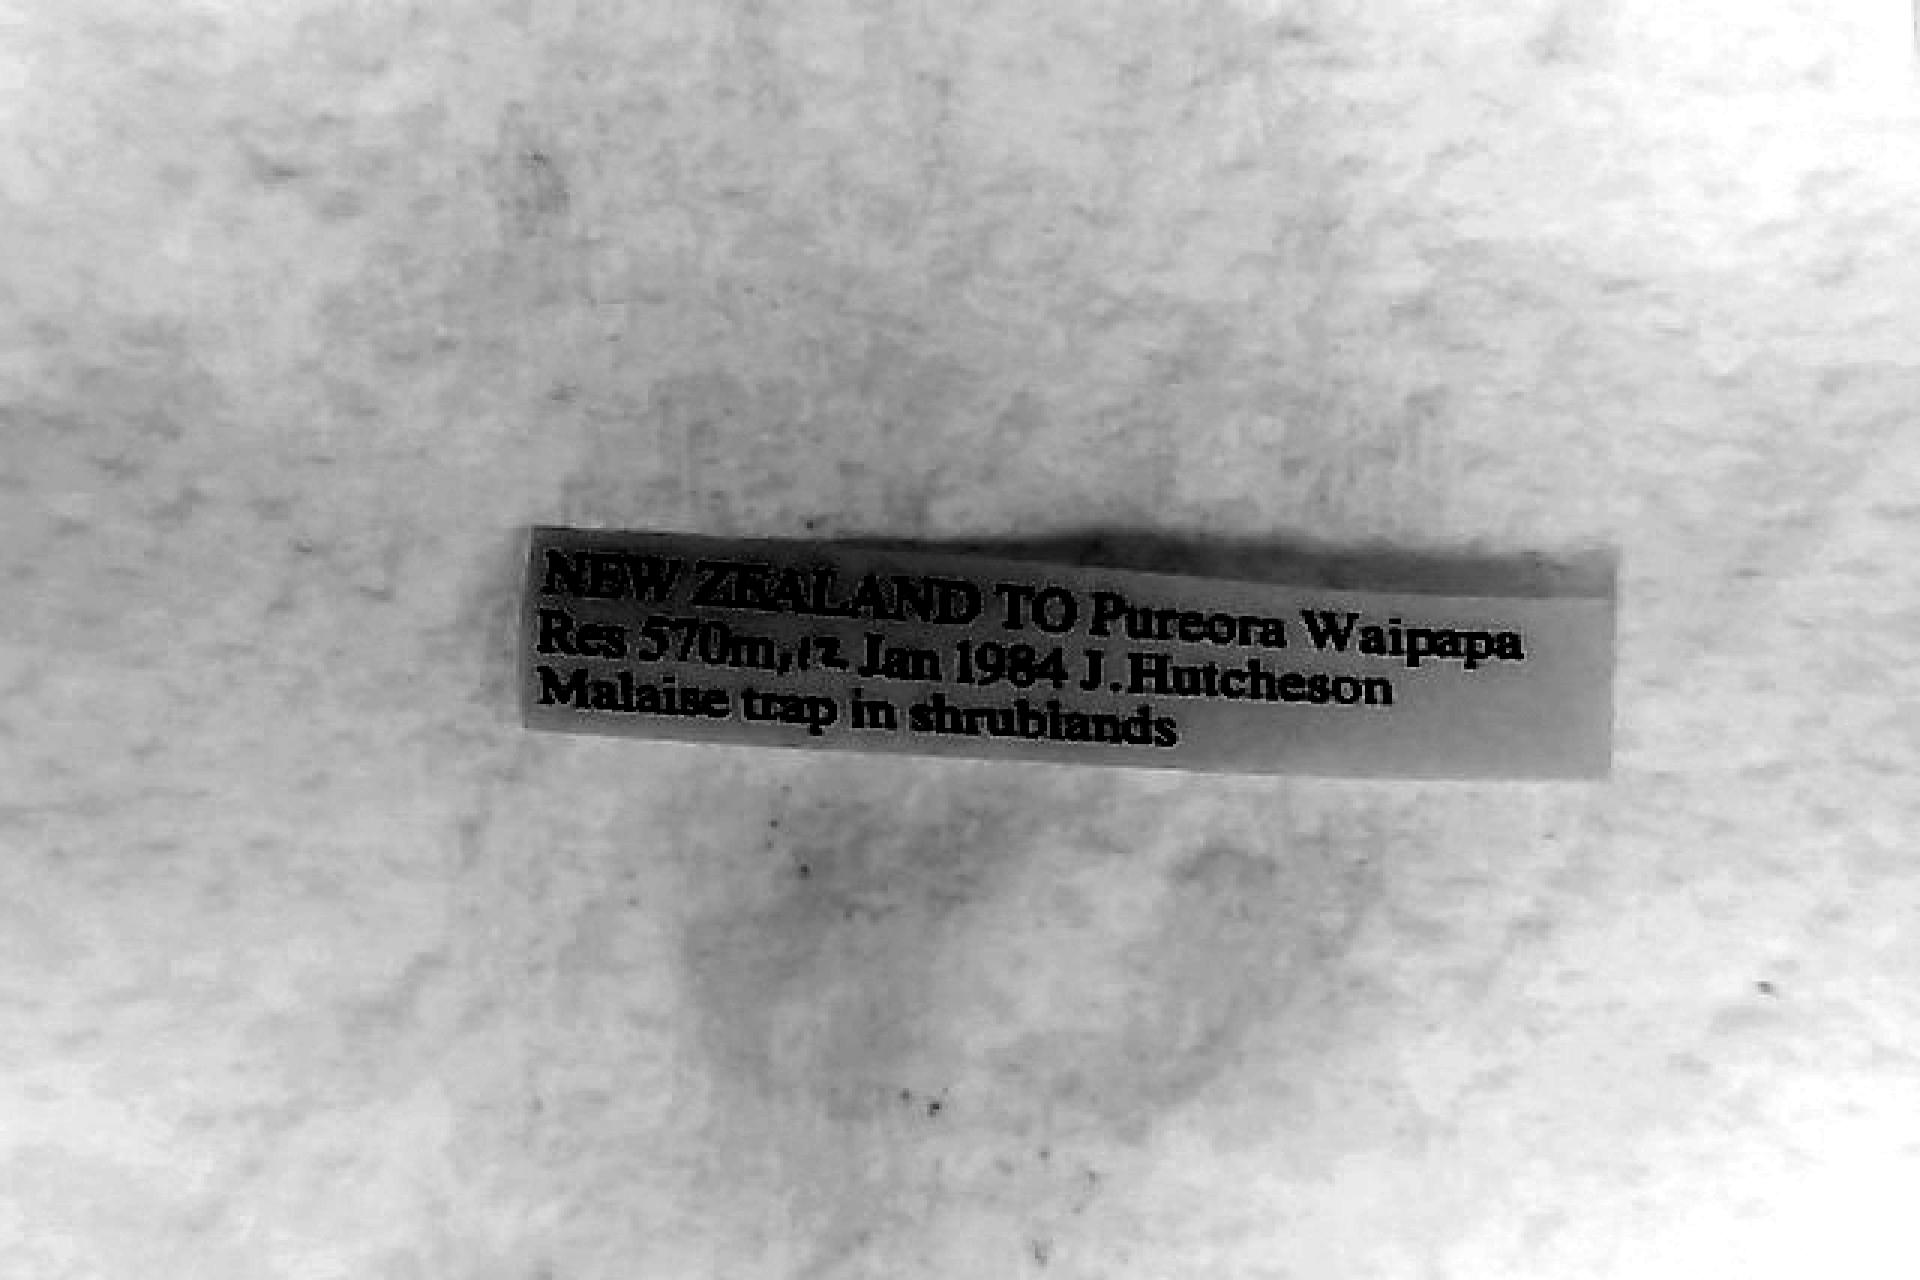typed_label: (521, 527, 1607, 774)
